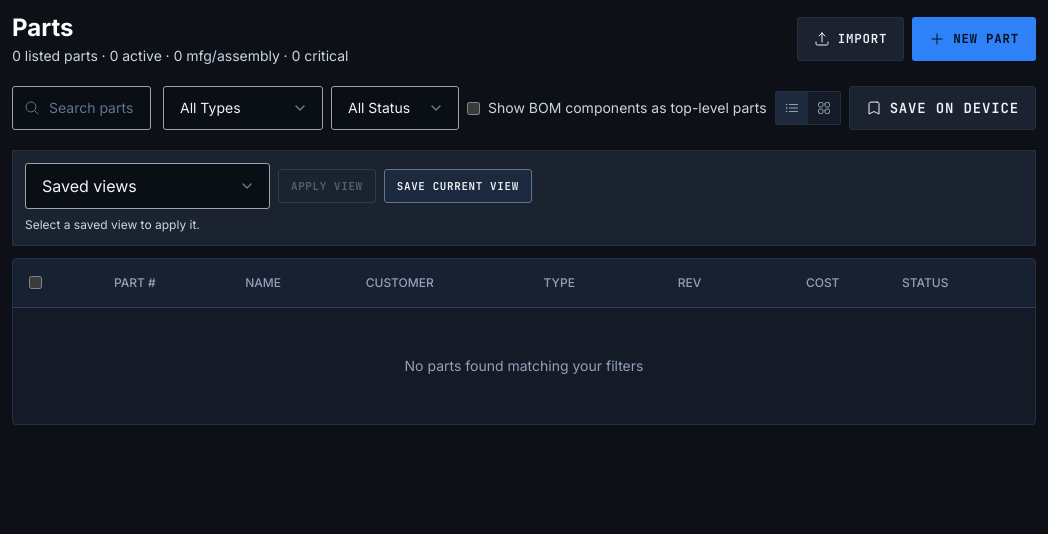
Test case: applying a different saved Parts view keeps the selector and discards a late old filter response
This screenshot has width=1048, height=534.
Select "Purchased view · Private" in the dropdown named "Saved views" at (148, 186), box [25, 163, 270, 209]
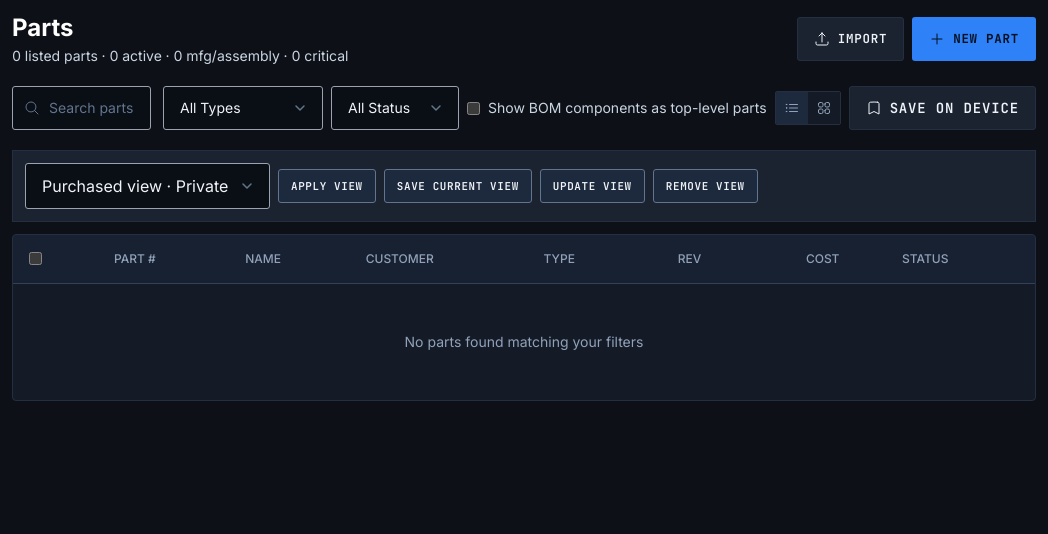
Click the button "Apply view" at (327, 186), box [278, 169, 376, 203]
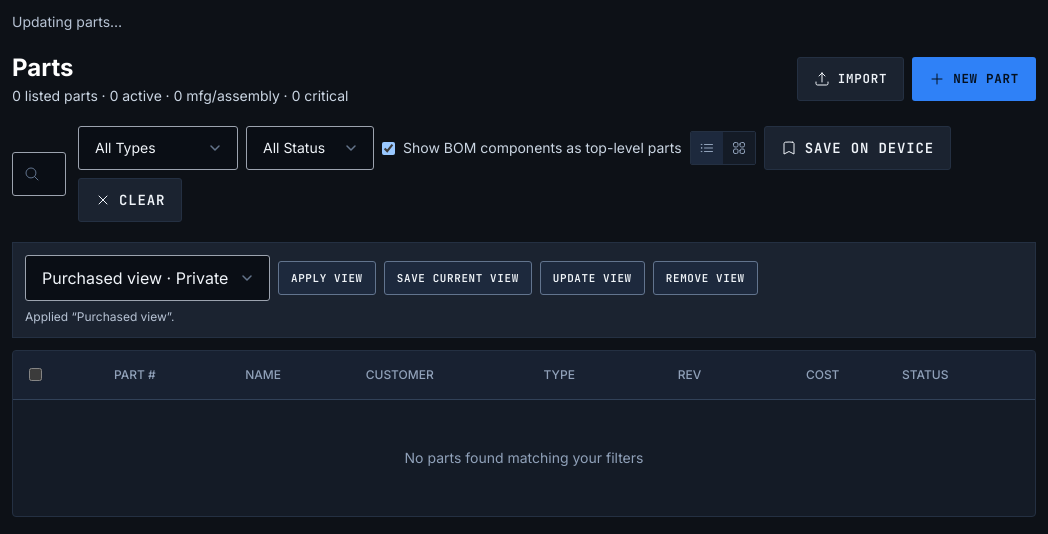
Select "Made view · Private" in the dropdown named "Saved views" at (148, 278), box [25, 255, 270, 301]
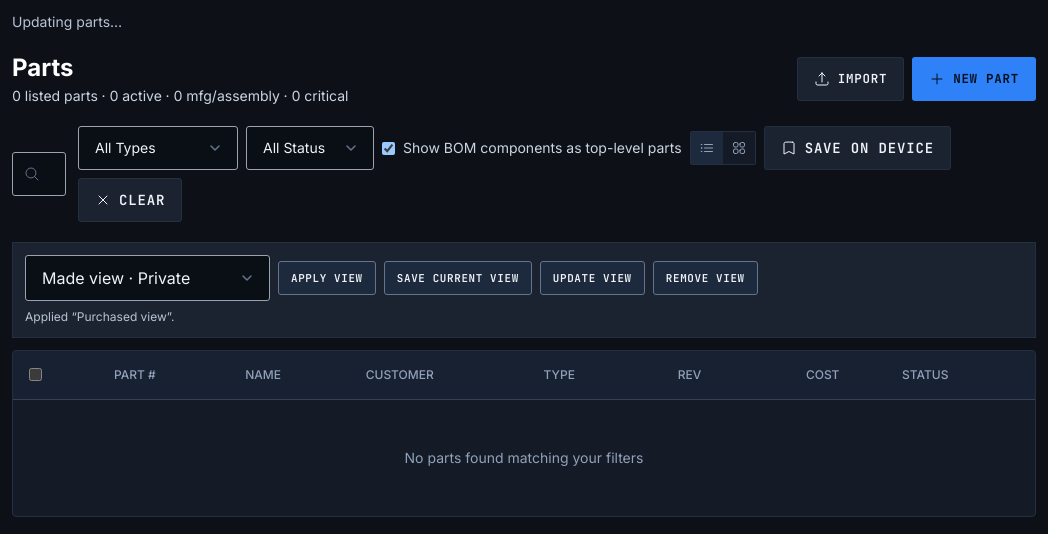
Click the button "Apply view" at (327, 278), box [278, 261, 376, 295]
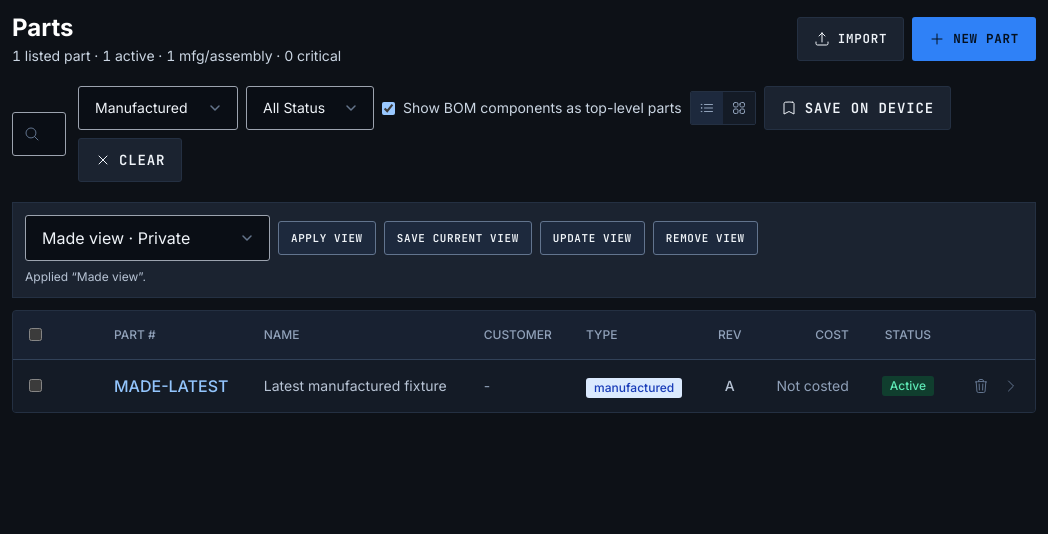
Now the text "MADE-LATEST" is shown, box [114, 376, 228, 396]
